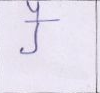ai_matra: (26, 0, 42, 20)
